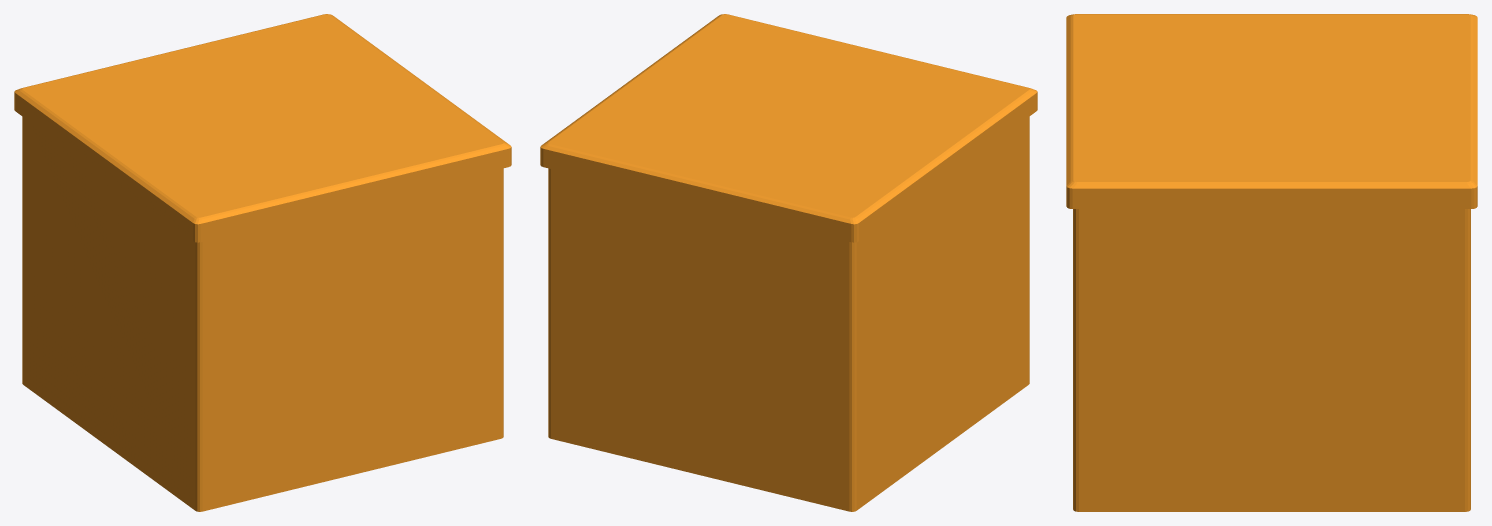
File: caja.fbx
3 views of the same model, side by side, from view 1: azimuth 30°, elevation 25°; view 2: azimuth 150°, elevation 25°; view 3: azimuth 270°, elevation 25° (orthographic). The views are drawn at different scales.
Visible parts, largest first — view 1: caja, tapa; view 2: caja, tapa; view 3: caja, tapa.
Part boxes in pixels (left/top/right/bottom): caja: left=22, top=116, right=503, bottom=511; tapa: left=14, top=14, right=511, bottom=242; caja: left=548, top=116, right=1029, bottom=511; tapa: left=540, top=14, right=1037, bottom=242; caja: left=1073, top=209, right=1470, bottom=511; tapa: left=1066, top=14, right=1477, bottom=208.
Bounding box in the file's own units: 1647 × 1458 × 1647.
